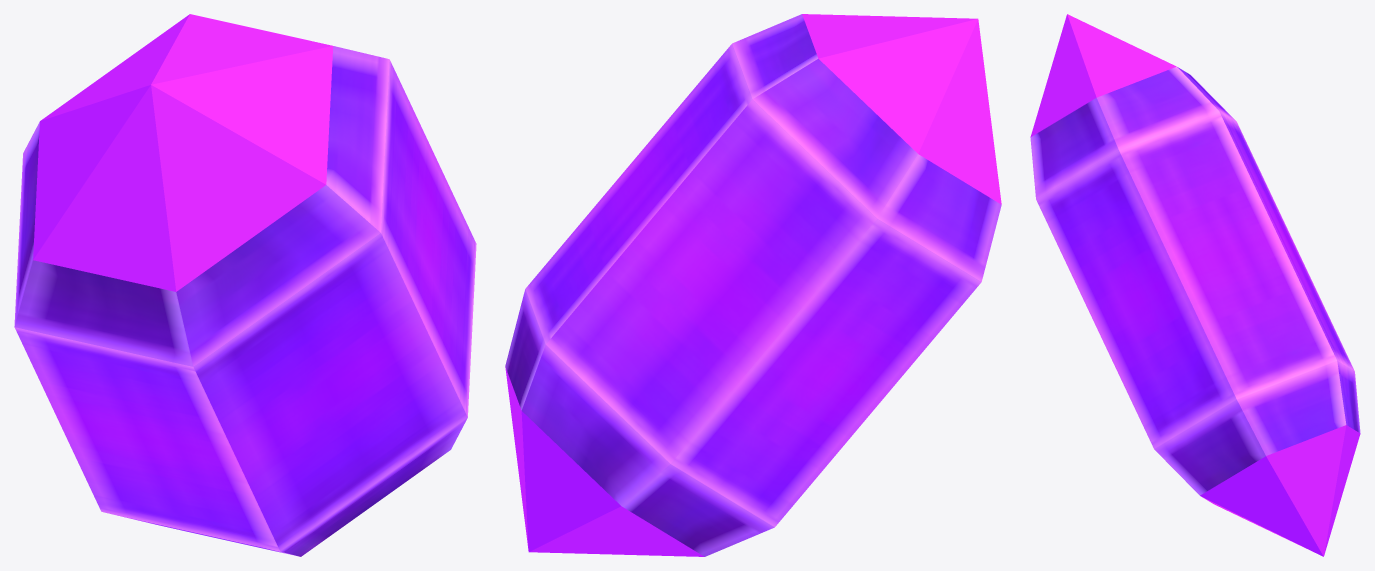
File: res_crystal_shard.glb
3 views of the same model, side by side, from view 1: azimuth 30°, elevation 25°; view 2: azimuth 150°, elevation 25°; view 3: azimuth 270°, elevation 25° (orthographic). The views are drawn at different scales.
Parts seen in each view (by area): view 1: res_crystal_shard; view 2: res_crystal_shard; view 3: res_crystal_shard.
Boxes of the visible parts, left/top/right/bottom form: res_crystal_shard: left=14, top=14, right=476, bottom=556; res_crystal_shard: left=505, top=14, right=1001, bottom=556; res_crystal_shard: left=1030, top=14, right=1360, bottom=556.
Size of the model in its own units: 0.1605 by 0.1839 by 0.131.
Materials: 2 (1 with a texture image).
